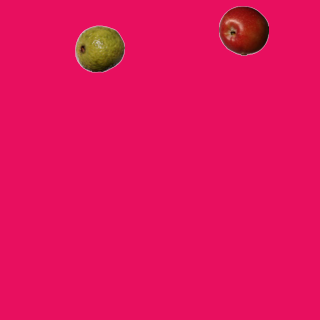Apple Braeburn: (218, 5, 268, 55)
Guava: (74, 23, 124, 73)
